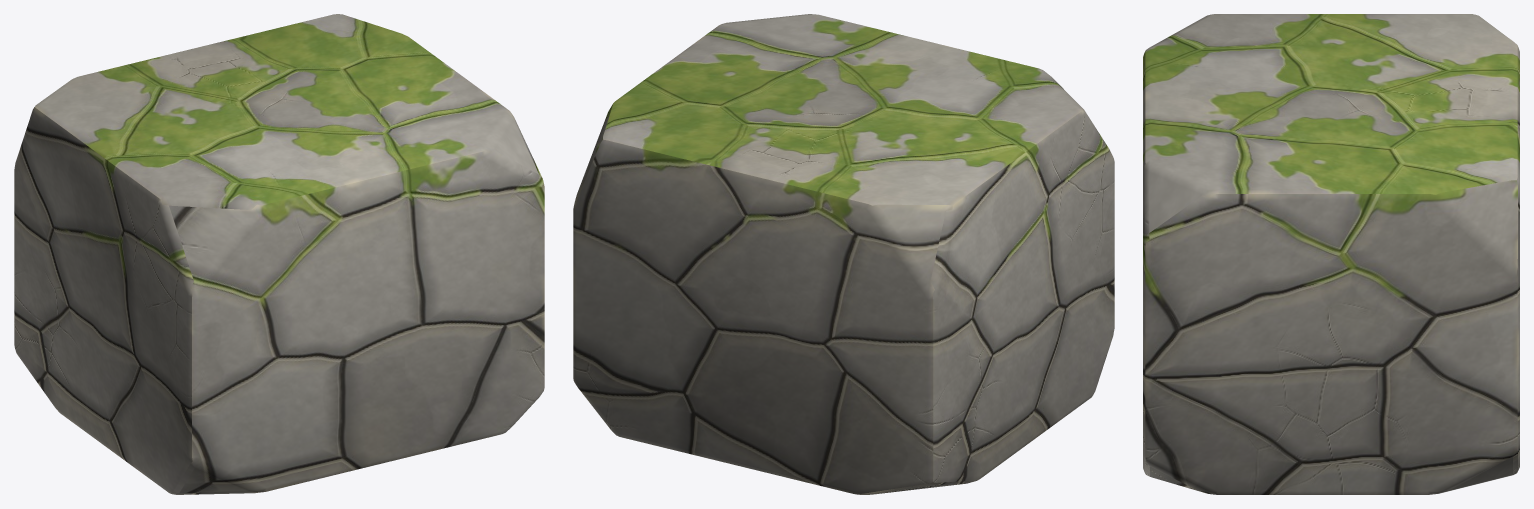
File: rock_large_b.glb
3 views of the same model, side by side, from view 1: azimuth 30°, elevation 25°; view 2: azimuth 150°, elevation 25°; view 3: azimuth 270°, elevation 25° (orthographic). The views are drawn at different scales.
Parts seen in each view (by area): view 1: Rock_large_b; view 2: Rock_large_b; view 3: Rock_large_b.
Part boxes in pixels (x1,y1,x2,y2): Rock_large_b: (14,14,544,494); Rock_large_b: (573,14,1114,494); Rock_large_b: (1143,14,1519,494).
Bounding box in the file's own units: 1.6 × 1.25 × 1.4.
Materials: 1 (1 with a texture image).
